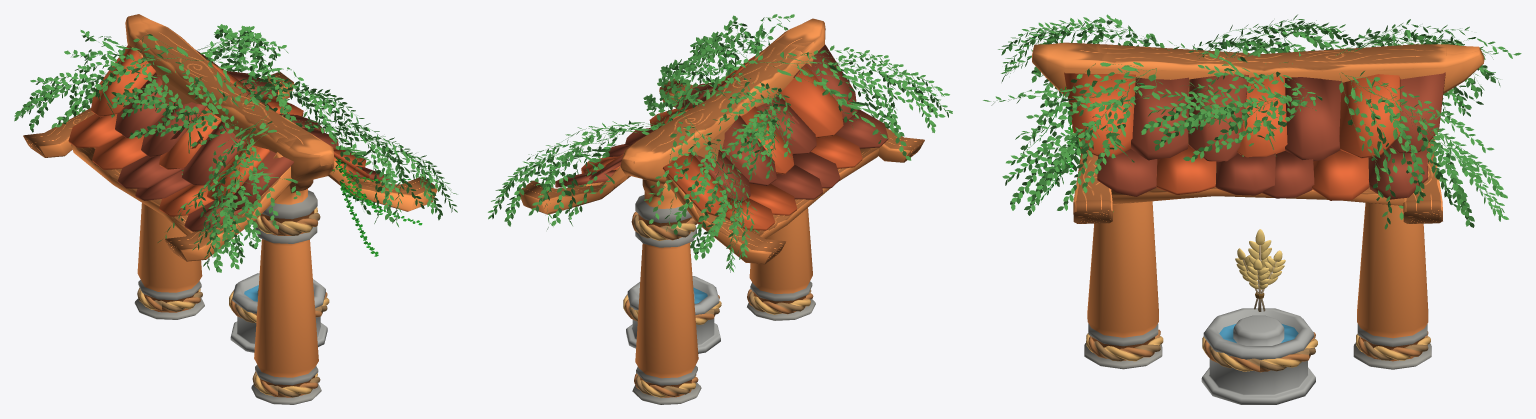
Rendered from Shrine.fbx.
The picture shows the model from 3 angles, left to right: view 1: azimuth 30°, elevation 25°; view 2: azimuth 150°, elevation 25°; view 3: azimuth 270°, elevation 25°; orthographic projection. The views are drawn at different scales.
Visible parts, largest first — view 1: Cylinder.001, tree.001, Cylinder.002, tree, Circle.001, Circle.003, Circle.005, Circle.002; view 2: Cylinder.001, tree.001, Cylinder.002, Circle.004, Circle.003, Circle.005, Circle.002; view 3: Cylinder.001, tree.001, Cylinder.002, Cube.001, Circle.002, Circle.003, Circle.005.
Boxes of the visible parts, x1=… form: Cylinder.001: x1=23, y1=14, x2=437, y2=404; tree.001: x1=14, y1=24, x2=457, y2=272; Cylinder.002: x1=230, y1=273, x2=327, y2=352; tree: x1=332, y1=156, x2=422, y2=256; Circle.001: x1=254, y1=207, x2=320, y2=235; Circle.003: x1=252, y1=371, x2=320, y2=397; Circle.005: x1=137, y1=287, x2=202, y2=311; Circle.002: x1=229, y1=290, x2=329, y2=323; Cylinder.001: x1=519, y1=18, x2=924, y2=404; tree.001: x1=488, y1=14, x2=952, y2=272; Cylinder.002: x1=626, y1=276, x2=720, y2=353; Circle.004: x1=631, y1=211, x2=697, y2=240; Circle.003: x1=747, y1=289, x2=813, y2=314; Circle.005: x1=634, y1=373, x2=698, y2=397; Circle.002: x1=623, y1=294, x2=721, y2=324; Cylinder.001: x1=1032, y1=42, x2=1484, y2=369; tree.001: x1=983, y1=14, x2=1521, y2=229; Cylinder.002: x1=1201, y1=308, x2=1315, y2=404; Cube.001: x1=1235, y1=229, x2=1285, y2=311; Circle.002: x1=1202, y1=332, x2=1317, y2=372; Circle.003: x1=1086, y1=329, x2=1163, y2=361; Circle.005: x1=1355, y1=331, x2=1430, y2=360.
Size of the model in its own units: 674 by 657 by 995.
Materials: 17 (1 with a texture image).
